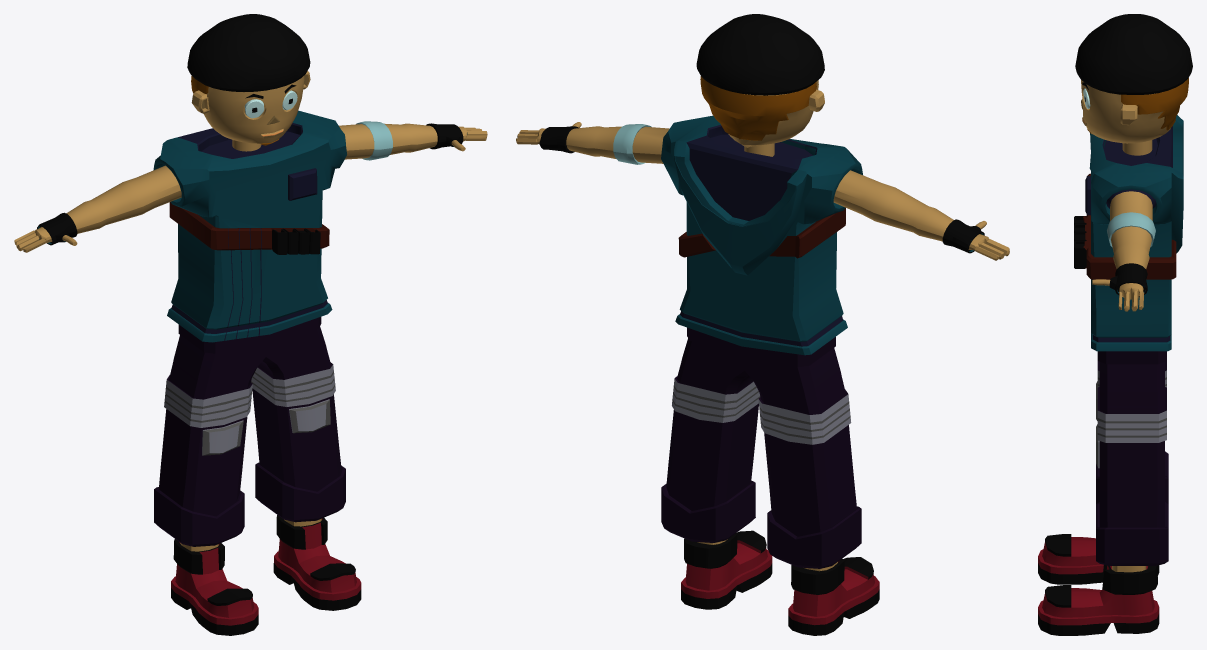
File: ParkourChar.fbx
The picture shows the model from 3 angles, left to right: view 1: azimuth 30°, elevation 25°; view 2: azimuth 150°, elevation 25°; view 3: azimuth 270°, elevation 25°; orthographic projection. The views are drawn at different scales.
Parts seen in each view (by area): view 1: Body, Cube, Head, Shoes; view 2: Body, Cube, Head, Shoes; view 3: Body, Cube, Head, Shoes, Neck.
Boxes of the visible parts, bbox=[...] form: Body: bbox=[14, 110, 487, 342]; Cube: bbox=[154, 317, 345, 546]; Head: bbox=[187, 14, 310, 145]; Shoes: bbox=[171, 515, 361, 635]; Body: bbox=[516, 115, 1009, 355]; Cube: bbox=[661, 327, 861, 568]; Head: bbox=[696, 14, 824, 147]; Shoes: bbox=[681, 530, 879, 635]; Body: bbox=[1074, 115, 1183, 351]; Cube: bbox=[1096, 351, 1168, 565]; Head: bbox=[1075, 14, 1192, 143]; Shoes: bbox=[1038, 534, 1159, 635]; Neck: bbox=[1122, 140, 1152, 155].
Bounding box in the file's own units: 354 × 409 × 99.39.
